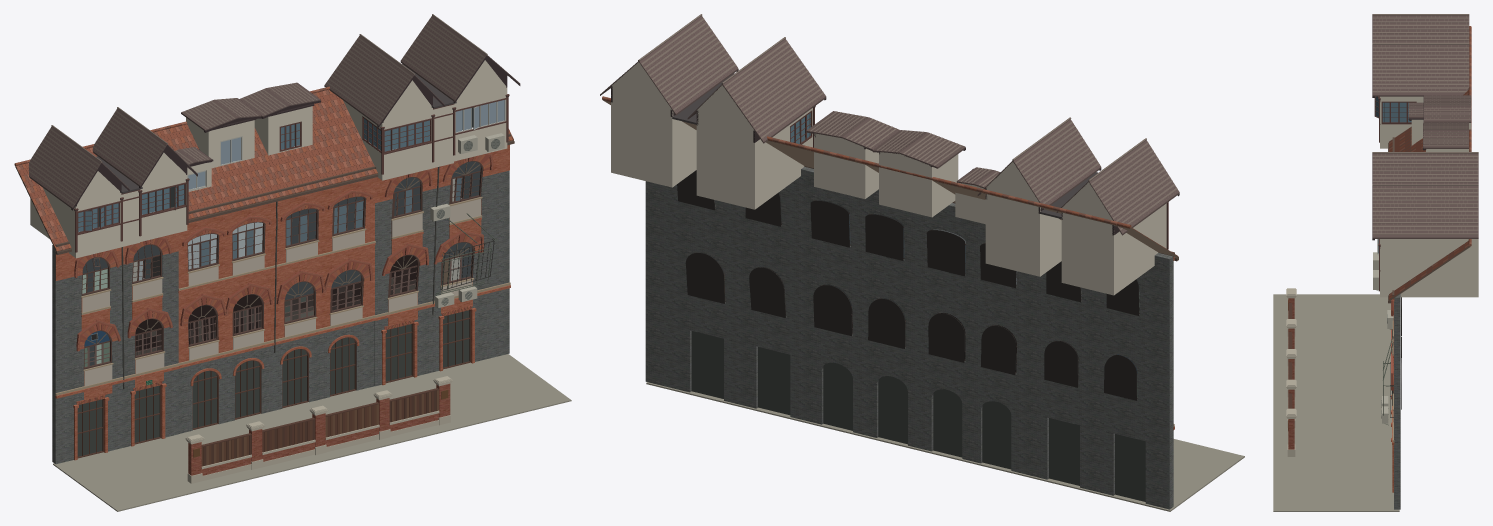
The model's file is hongkou-changchun-road-sassoon-brick-terrace-raw.glb.
The picture shows the model from 3 angles, left to right: view 1: azimuth 30°, elevation 25°; view 2: azimuth 150°, elevation 25°; view 3: azimuth 270°, elevation 25°; orthographic projection. The views are drawn at different scales.
Visible parts, largest first — view 1: 长春路沙逊楼群北立面八开间; view 2: 长春路沙逊楼群北立面八开间; view 3: 长春路沙逊楼群北立面八开间.
Boxes of the visible parts, <box> form: 长春路沙逊楼群北立面八开间: <box>14,14,571,511</box>; 长春路沙逊楼群北立面八开间: <box>600,14,1244,511</box>; 长春路沙逊楼群北立面八开间: <box>1273,14,1478,511</box>.
Size of the model in its own units: 32.24 by 21.47 by 12.82.
62 materials, 3 textured.
